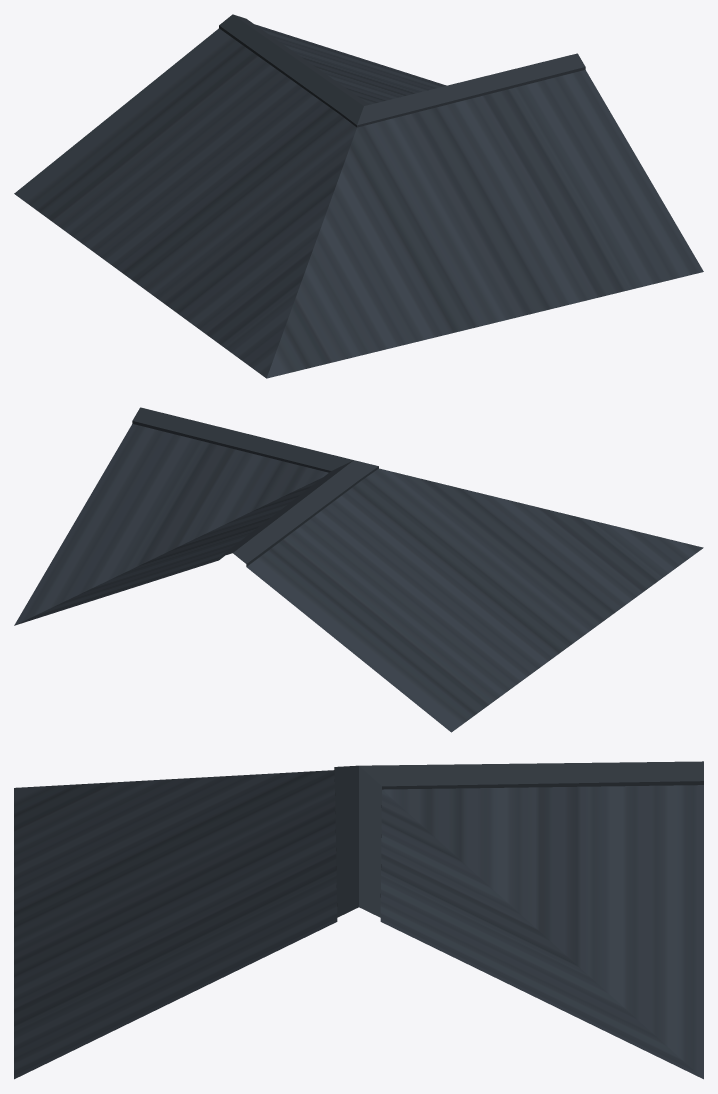
File: SM_Bld_House_Roof_Angled_Cap_Corner_Short_01.fbx
The picture shows the model from 3 angles, top to bottom: view 1: azimuth 30°, elevation 25°; view 2: azimuth 150°, elevation 25°; view 3: azimuth 270°, elevation 25°; orthographic projection. The views are drawn at different scales.
Parts seen in each view (by area): view 1: SM_Bld_House_Roof_Angled_Cap_Corner_Short_01; view 2: SM_Bld_House_Roof_Angled_Cap_Corner_Short_01; view 3: SM_Bld_House_Roof_Angled_Cap_Corner_Short_01.
Boxes of the visible parts, left/top/right/bottom form: SM_Bld_House_Roof_Angled_Cap_Corner_Short_01: left=14, top=14, right=703, bottom=378; SM_Bld_House_Roof_Angled_Cap_Corner_Short_01: left=14, top=407, right=703, bottom=732; SM_Bld_House_Roof_Angled_Cap_Corner_Short_01: left=14, top=761, right=703, bottom=1079.
Bounding box in the file's own units: 250 × 68.86 × 250.
